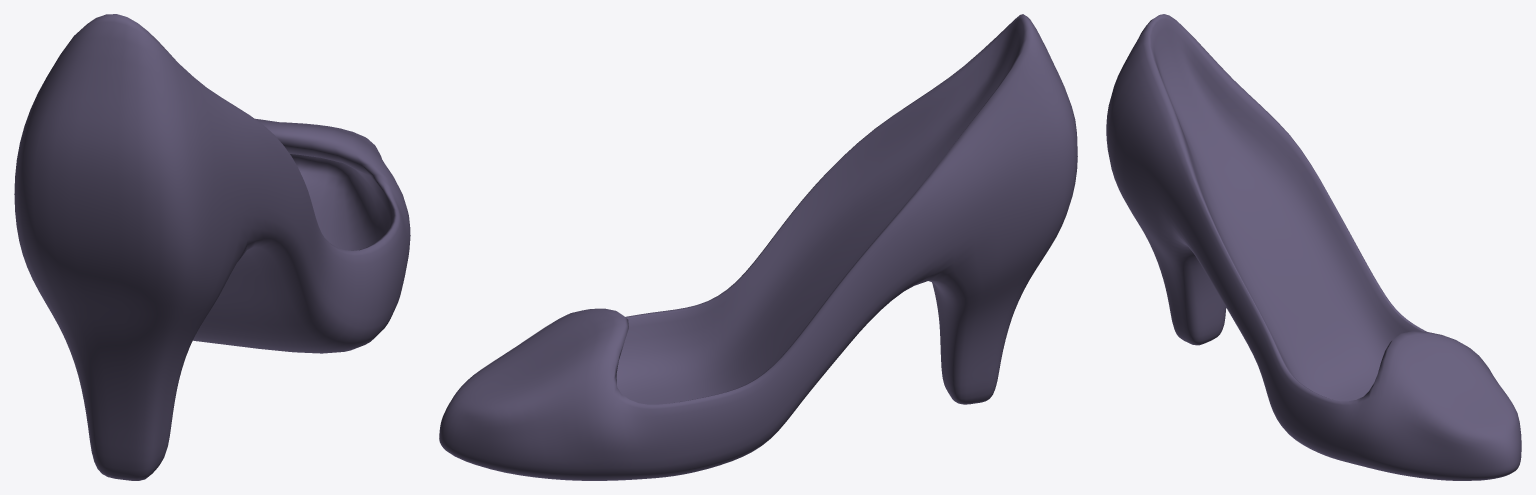
The model's file is Heel1.fbx.
3 renders of one model, left to right at view 1: azimuth 30°, elevation 25°; view 2: azimuth 150°, elevation 25°; view 3: azimuth 270°, elevation 25°, orthographic. The views are drawn at different scales.
Visible parts, largest first — view 1: HeelRightNOBOW; view 2: HeelRightNOBOW; view 3: HeelRightNOBOW.
Part boxes in pixels (x1,y1,x2,y2): HeelRightNOBOW: [14, 14, 410, 480]; HeelRightNOBOW: [439, 14, 1077, 480]; HeelRightNOBOW: [1106, 14, 1521, 480].
Bounding box in the file's own units: 2.85 × 2.41 × 2.78.
